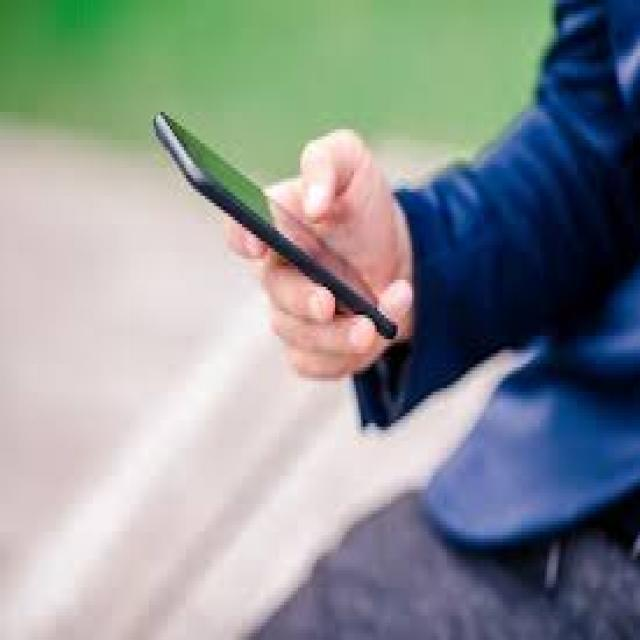Phone: (151, 105, 404, 347)
